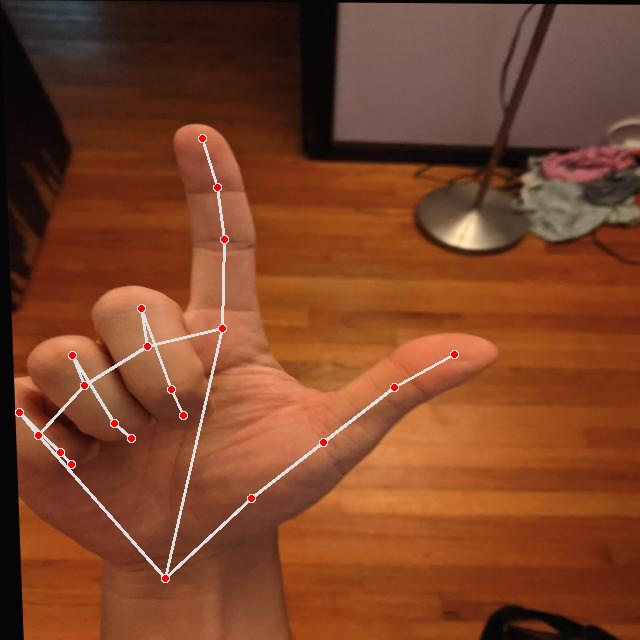L: (3, 114, 513, 572)
